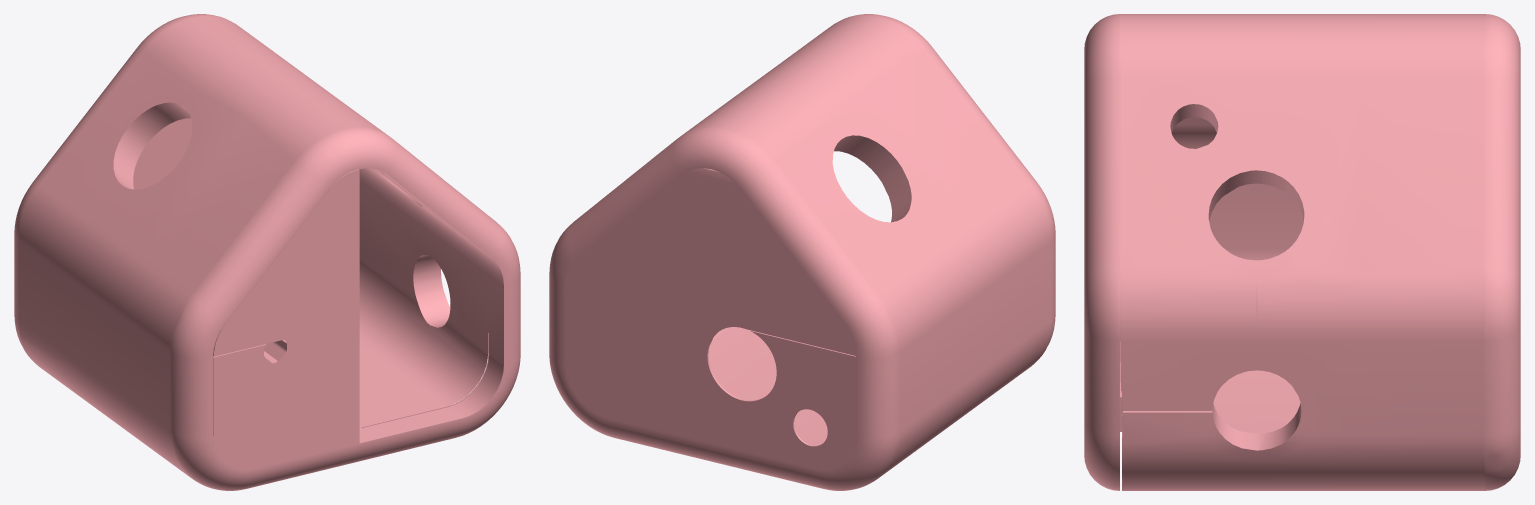
The model's file is HomieHead11.glb.
3 renders of one model, left to right at view 1: azimuth 30°, elevation 25°; view 2: azimuth 150°, elevation 25°; view 3: azimuth 270°, elevation 25°, orthographic. The views are drawn at different scales.
Parts seen in each view (by area): view 1: Brep.406, Brep.407; view 2: Brep.406; view 3: Brep.406.
Part boxes in pixels (left/top/right/bottom): Brep.406: left=14, top=14, right=520, bottom=490; Brep.407: left=213, top=169, right=359, bottom=469; Brep.406: left=549, top=14, right=1055, bottom=490; Brep.406: left=1084, top=14, right=1520, bottom=490.
Bounding box in the file's own units: 0.5144 × 0.4718 × 0.4685.
